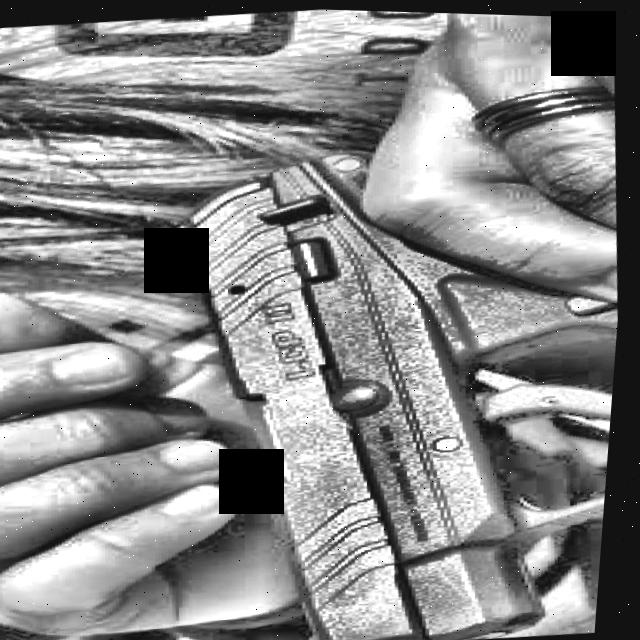Ruger: (137, 120, 633, 640)
